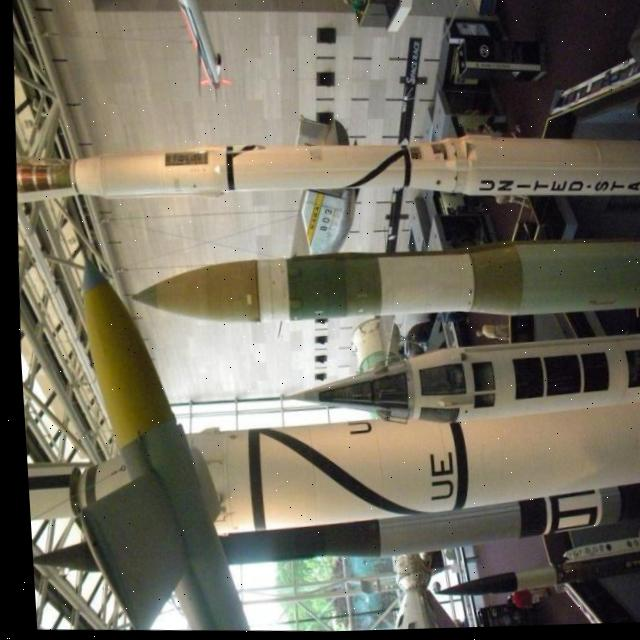missile: (41, 249, 246, 635), (142, 404, 640, 522), (55, 125, 640, 220), (129, 234, 640, 332)
